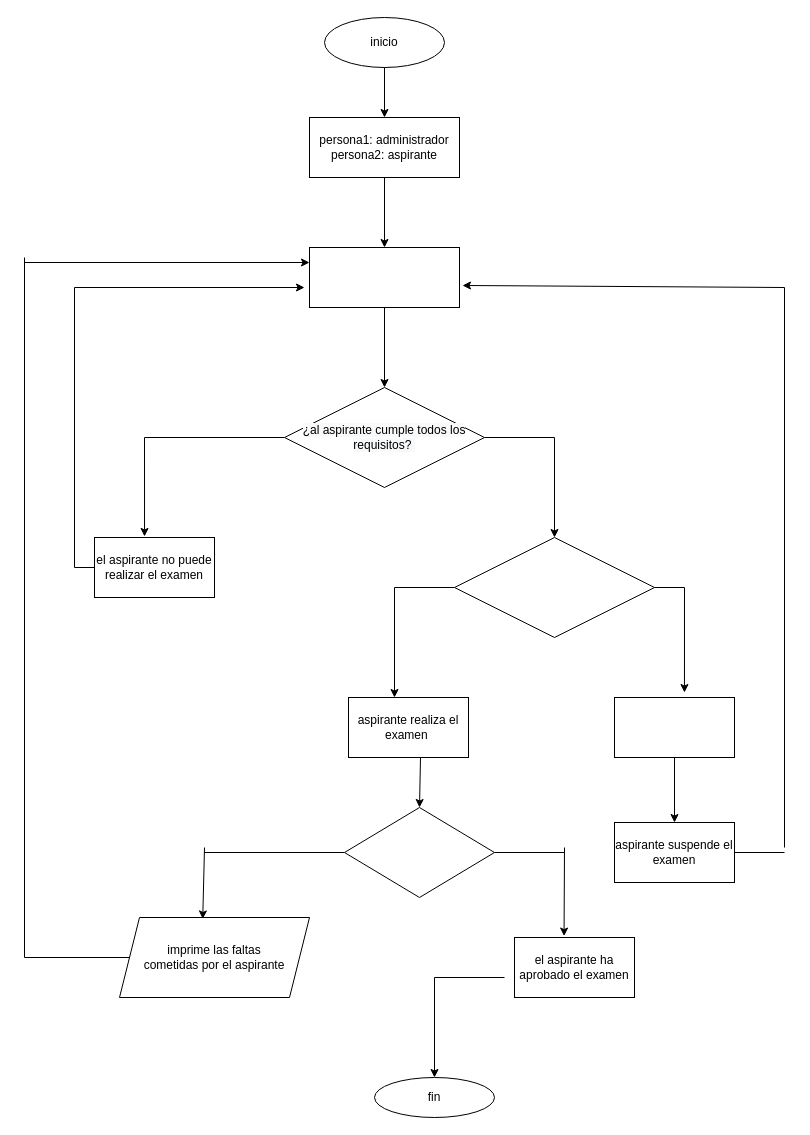
Some shapes in this 810 by 1135 pixel diagram are drawn without their labels. Here are the shapes that lost their labels. From the top down, the centre of each, then its label:
At [384,277]: "administrador elige uno de los aspirantes".
At [554,587]: "¿es aspirante está presente en el momento del examen?".
At [674,727]: "secuencia error".
At [419,852]: "¿realiza el examen de forma correcta?".
